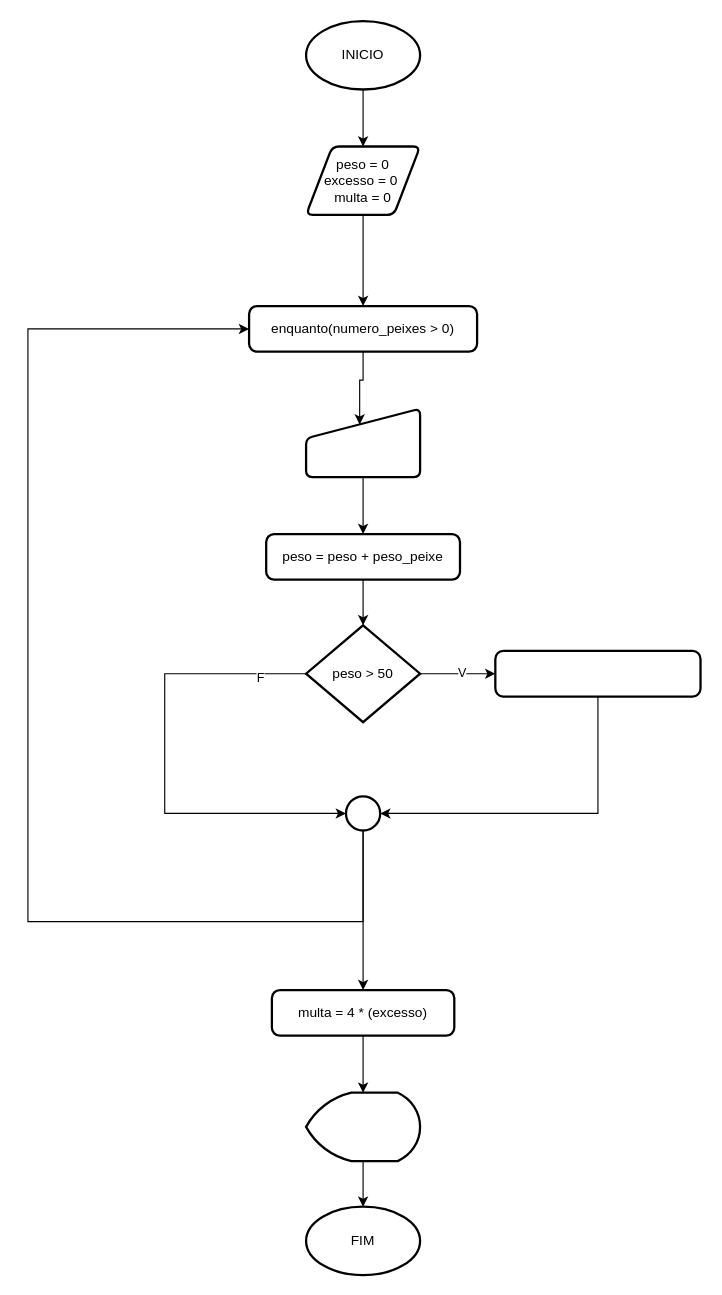
The diagram is 722 pixels wide and 1295 high, and some of its shapes have lost their labels. The centre of each missing label's shape, as x and y in pixels:
excesso = excesso + (peso - 50): the point at 597,673
excesso multa: the point at 362,1126
peso_peixe: the point at 362,442
